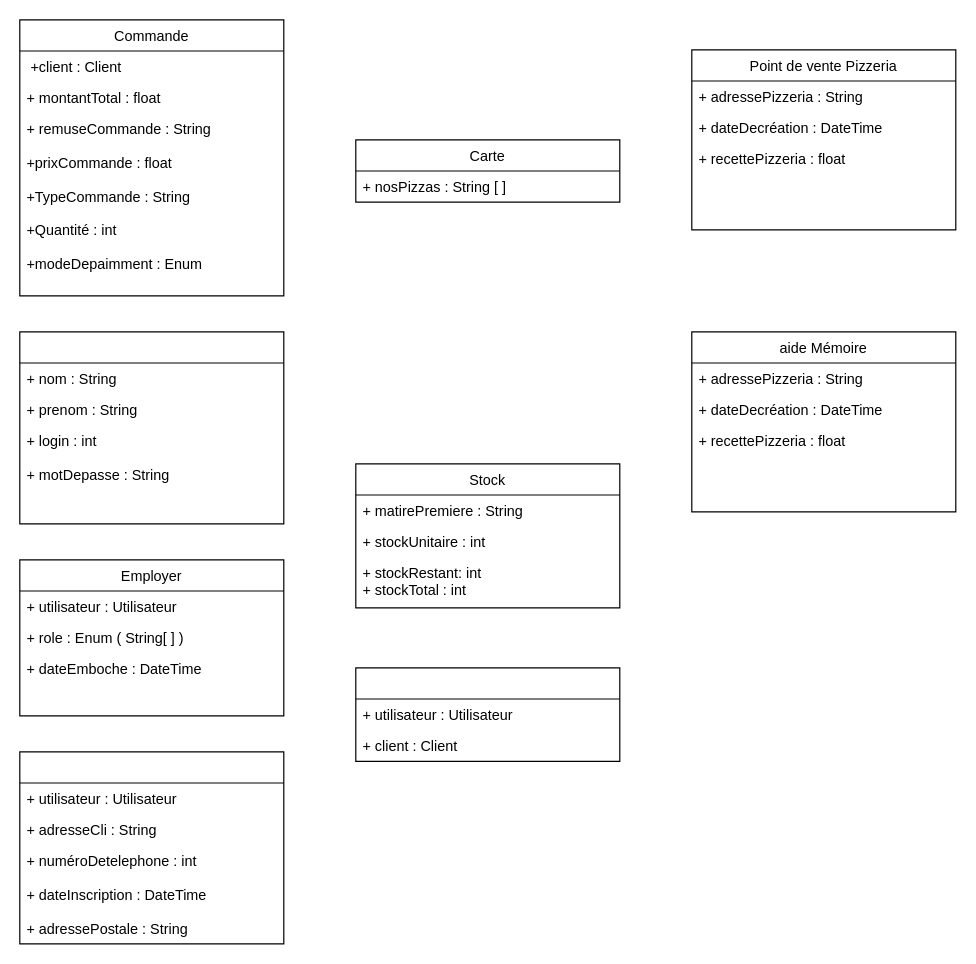
This 976x964 diagram has some shape labels left out. The shapes that lost their labels are listed below. From the top down, each one's box as (x1, y1, x2, y2) in pixels, then its label:
(19, 331, 284, 524): Utilisateur
(355, 667, 620, 761): Facturation
(19, 751, 284, 944): Client
